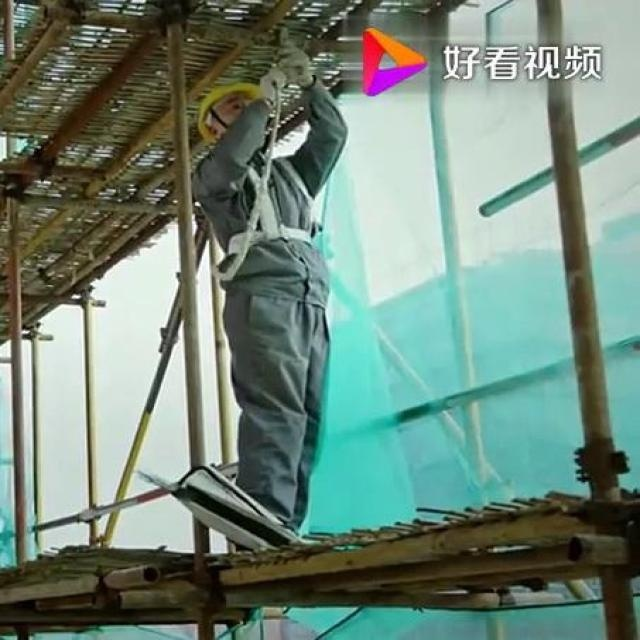Arnes_seguridad: (208, 149, 322, 283)
